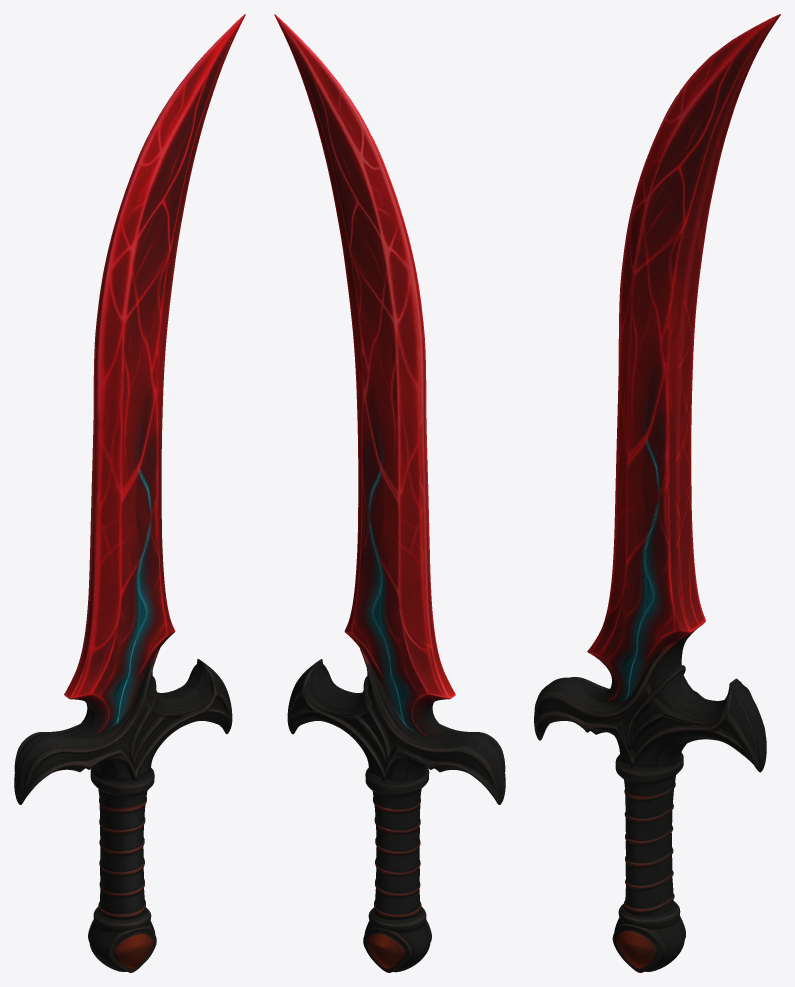
The model's file is character.glb.
The picture shows the model from 3 angles, left to right: view 1: azimuth 30°, elevation 25°; view 2: azimuth 150°, elevation 25°; view 3: azimuth 330°, elevation 25°; orthographic projection. The views are drawn at different scales.
Bounding box in the file's own units: 0.4925 × 1.9 × 0.1292.
1 material, 1 textured.
